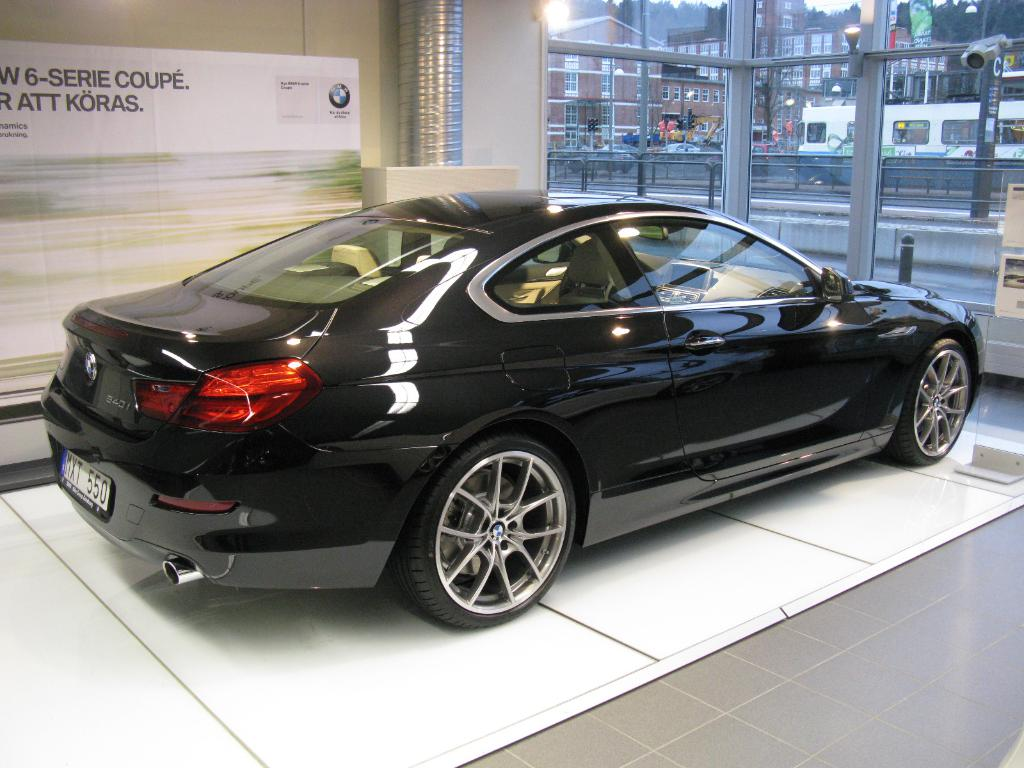Car: (40, 188, 984, 627), (705, 144, 780, 174), (567, 147, 633, 171), (602, 144, 638, 162), (665, 142, 699, 159)
